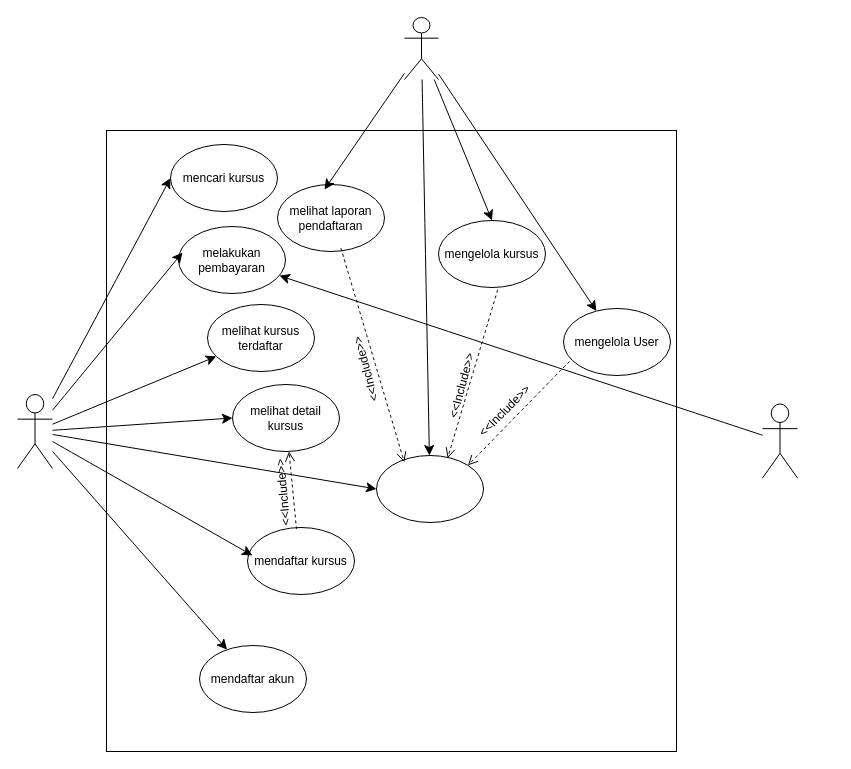
This 851x769 diagram has some shape labels left out. Here are the shapes that lost their labels. From the top down, the centre of each, then its label:
At point 421,48: "Admin".
At point 34,431: "User".
At point 780,440: "Sistem pembayaran".
At point 430,488: "login".
